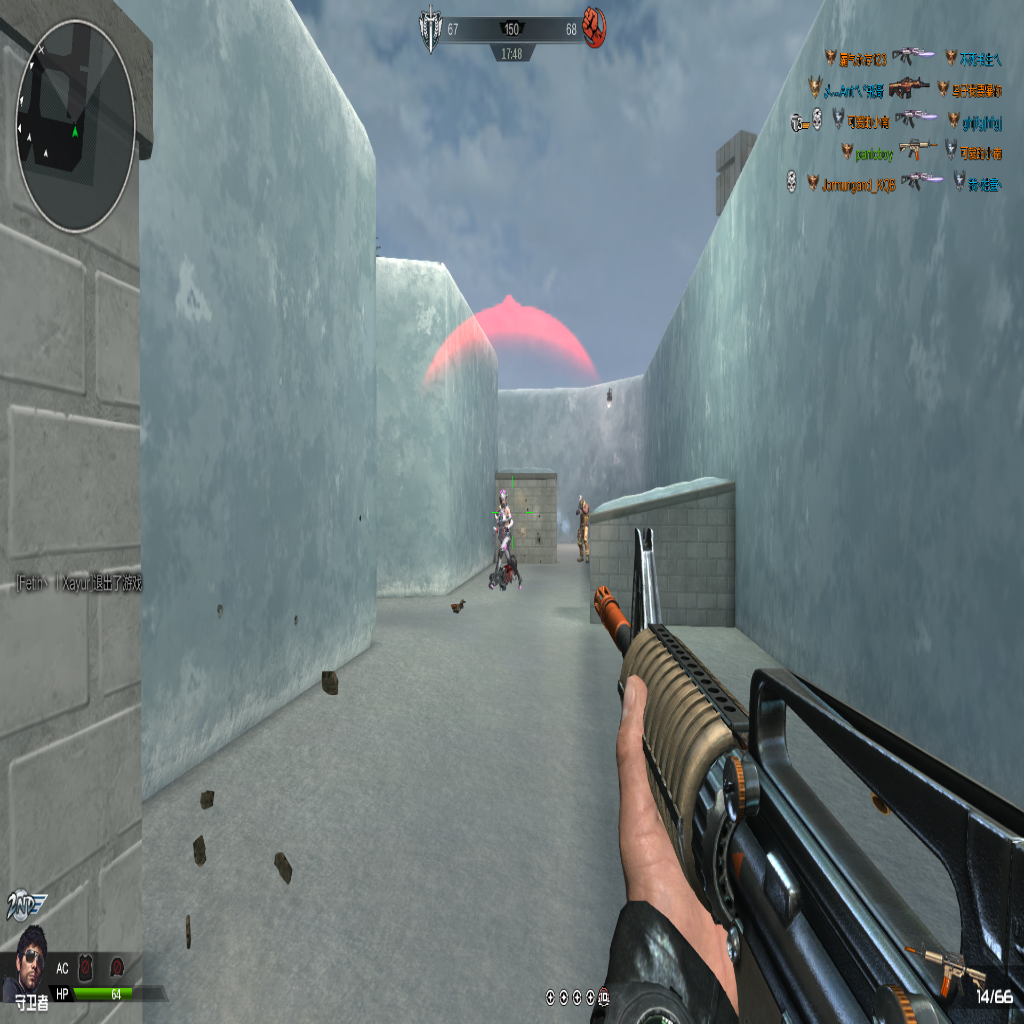tt: (492, 490, 517, 584), (575, 500, 588, 559)
